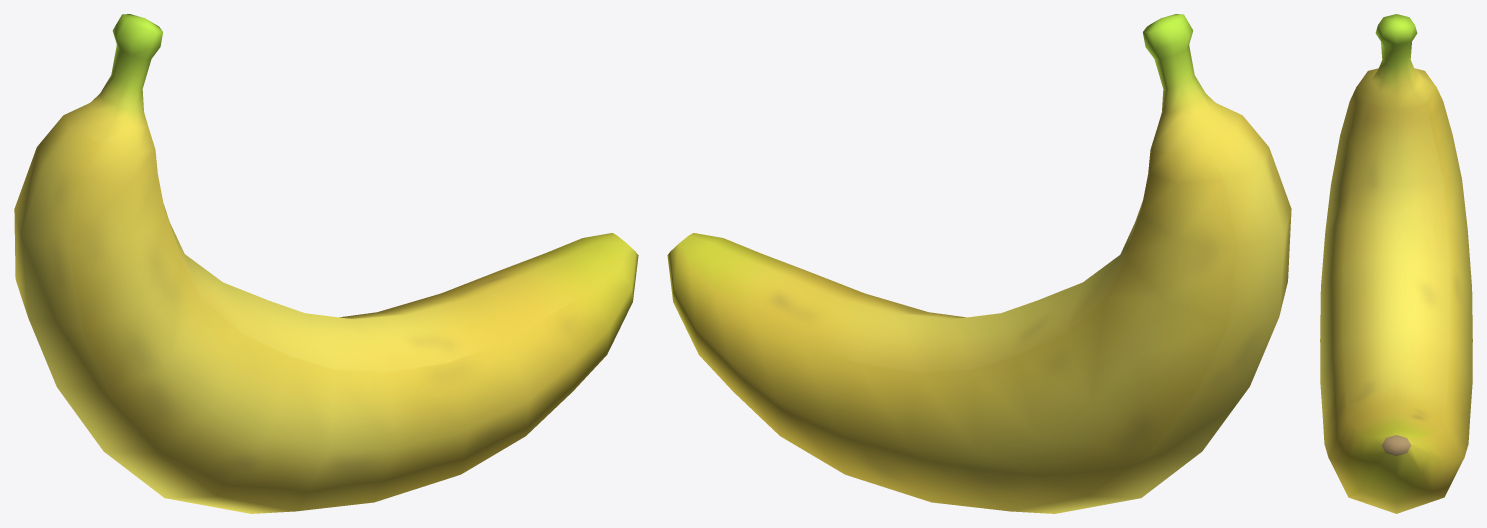
File: banana.fbx
3 renders of one model, left to right at view 1: azimuth 30°, elevation 25°; view 2: azimuth 150°, elevation 25°; view 3: azimuth 270°, elevation 25°, orthographic. The views are drawn at different scales.
Parts seen in each view (by area): view 1: banana; view 2: banana; view 3: banana.
Part boxes in pixels (x1=…): banana: x1=14, y1=14, x2=638, y2=513; banana: x1=667, y1=14, x2=1291, y2=513; banana: x1=1320, y1=14, x2=1472, y2=513.
Size of the model in its own units: 488 by 407 by 144.
Materials: 1 (1 with a texture image).
